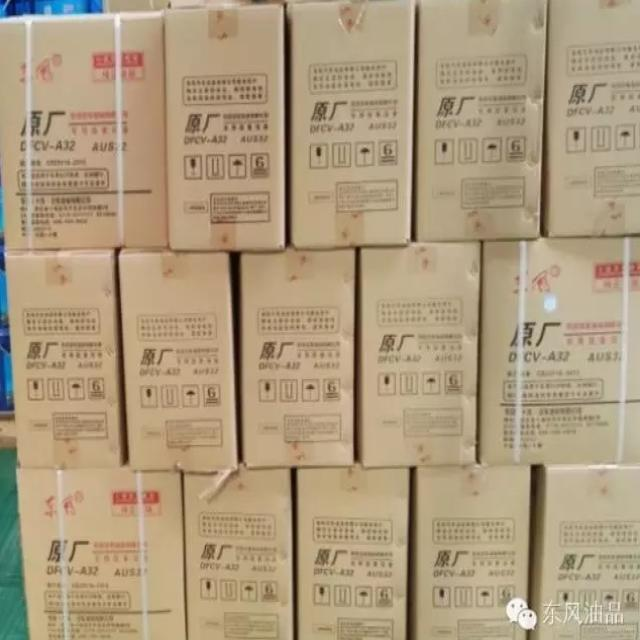box: (0, 11, 167, 251), (475, 234, 639, 464), (413, 1, 550, 240), (286, 2, 417, 250), (17, 459, 186, 639), (356, 240, 483, 469), (166, 5, 283, 251), (237, 239, 358, 467), (4, 249, 127, 467), (119, 245, 238, 469), (543, 0, 639, 237), (407, 464, 530, 639), (296, 456, 410, 639), (183, 459, 295, 639), (530, 463, 639, 639)
